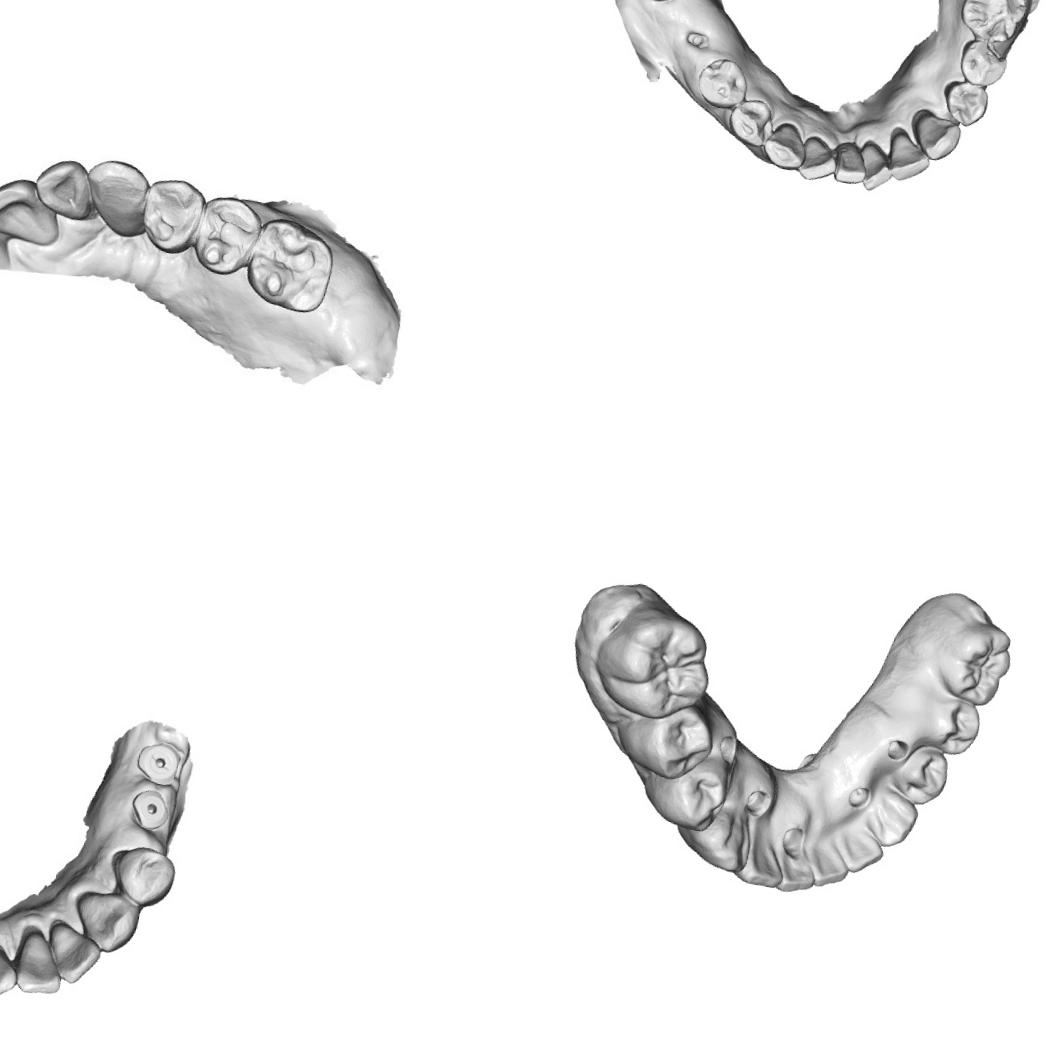canine: (81, 159, 158, 243), (67, 884, 144, 958), (684, 800, 753, 872), (858, 787, 922, 853), (906, 107, 965, 165), (758, 116, 811, 173)
implant: (128, 784, 172, 829)
implant_minus: (136, 738, 184, 785)
incisor: (0, 174, 64, 247), (6, 928, 70, 999), (33, 157, 95, 220), (44, 923, 103, 988), (734, 825, 790, 890), (881, 128, 936, 187), (830, 829, 888, 878), (792, 131, 842, 186), (807, 836, 857, 890), (852, 138, 897, 195), (773, 846, 821, 895), (827, 137, 869, 187), (0, 923, 24, 1005)
molar: (586, 599, 718, 727), (244, 216, 335, 312), (934, 616, 1016, 708), (192, 192, 262, 272), (953, 0, 1034, 47)
premolar: (636, 701, 716, 782), (656, 754, 730, 832), (136, 174, 202, 254), (107, 841, 181, 911), (920, 686, 988, 758), (893, 739, 953, 808), (692, 51, 752, 112), (722, 92, 780, 150), (954, 34, 1012, 91), (936, 78, 992, 129)
